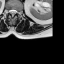CCS_normal: (11, 6, 14, 19)
LFS_normal: (17, 7, 19, 16)
LLS_normal: (14, 6, 17, 15)
RFS_normal: (6, 6, 9, 15)
RLS_normal: (9, 7, 11, 15)
